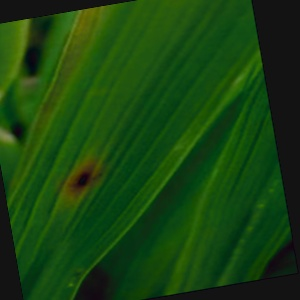Bacterial_Leaf_Blight: (61, 159, 103, 195)
